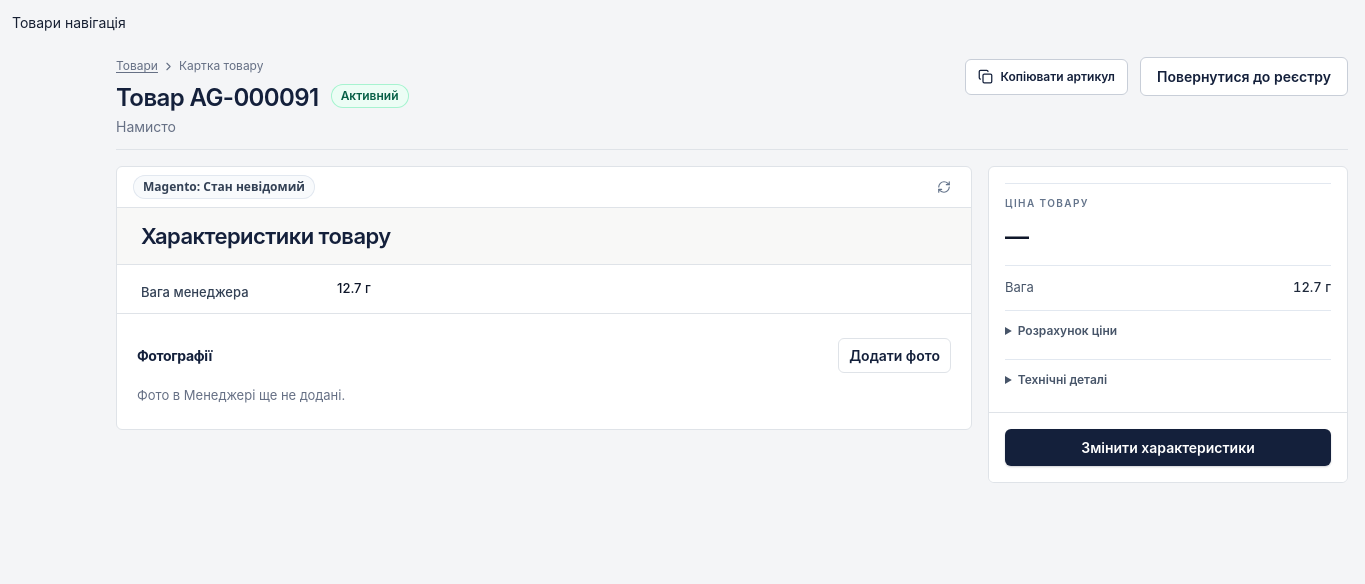
Test: gates existing-product photo edits on recount permission: true
Expected: the heading "Товар AG-000091" is shown, [116,83,319,113]
Expected: the heading "Фотографії" is shown, [137,344,212,366]
Click the button "Додати фото".
click(895, 355)  # box [838,338,951,372]
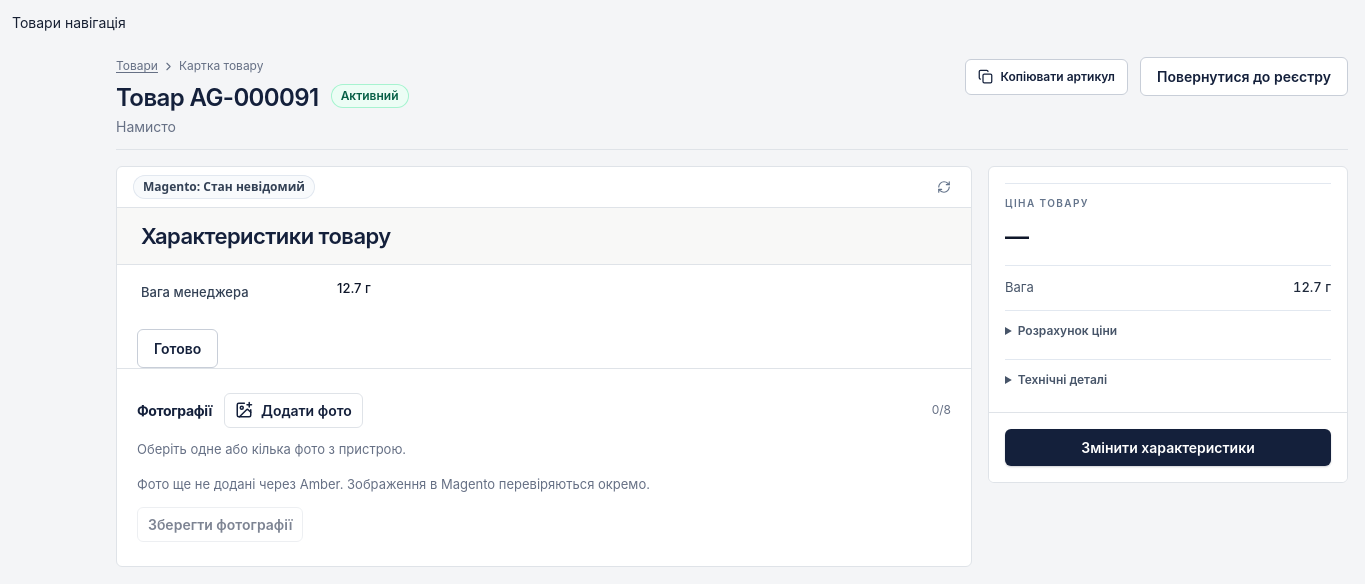
Now the element named "Додати фото" is shown, box [137,440,406,456]
